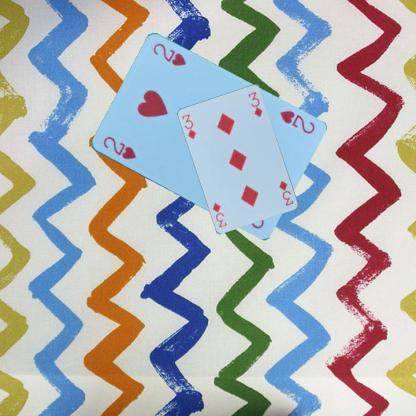2h: (276, 108, 316, 135), (100, 134, 137, 160)
3d: (276, 178, 294, 207), (180, 112, 198, 140)
